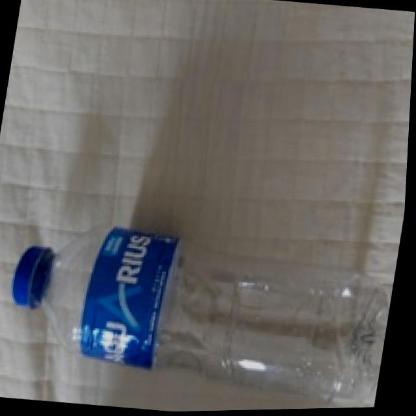Plastic Bottle: (12, 224, 390, 404)
